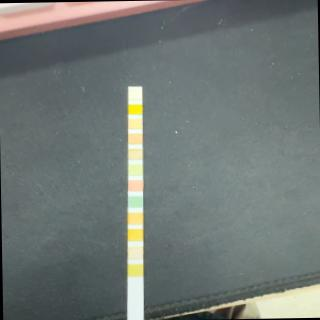mark: (128, 263, 143, 276), (128, 228, 144, 240), (128, 195, 142, 208), (128, 246, 142, 259), (128, 180, 143, 192), (128, 148, 142, 160), (128, 212, 142, 224), (127, 90, 143, 100), (128, 118, 142, 129), (128, 133, 142, 144), (128, 163, 142, 174), (128, 104, 142, 114)
